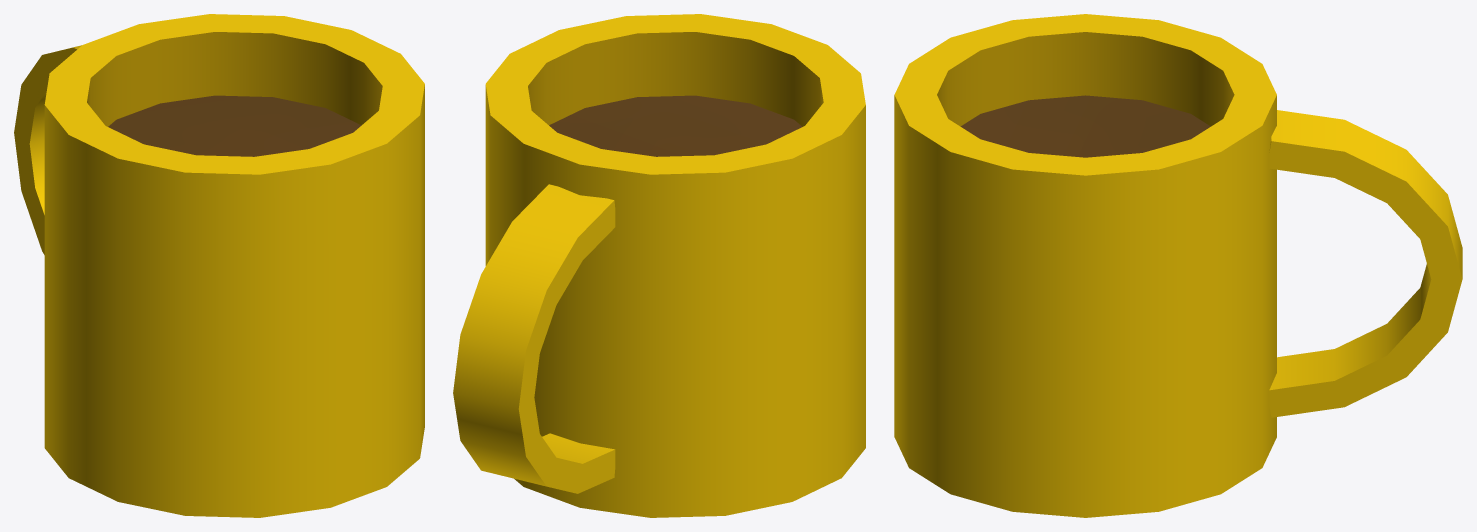
File: SM_Props_Food_12.fbx
3 views of the same model, side by side, from view 1: azimuth 30°, elevation 25°; view 2: azimuth 150°, elevation 25°; view 3: azimuth 270°, elevation 25° (orthographic).
Visible parts, largest first — view 1: SM_Props_Food_12; view 2: SM_Props_Food_12; view 3: SM_Props_Food_12.
Boxes of the visible parts, x1,y1,x2,y2 form: SM_Props_Food_12: (14,14,424,517); SM_Props_Food_12: (453,14,865,517); SM_Props_Food_12: (894,14,1462,517).
Size of the model in its own units: 0.1537 by 0.1518 by 0.2283.
